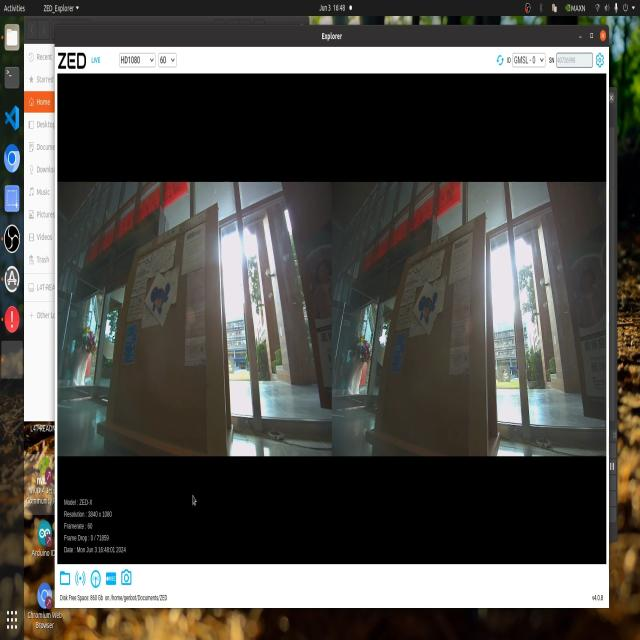blue: (145, 280, 188, 332), (409, 286, 442, 328)
